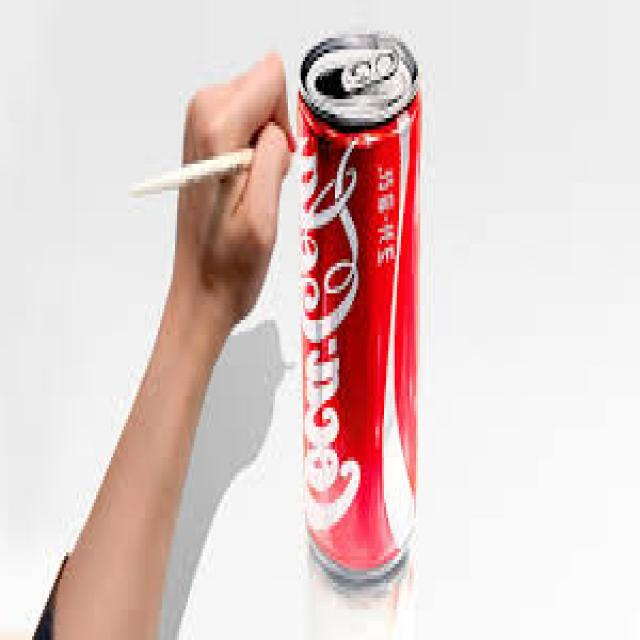Coca-Cola: (294, 25, 432, 592)
